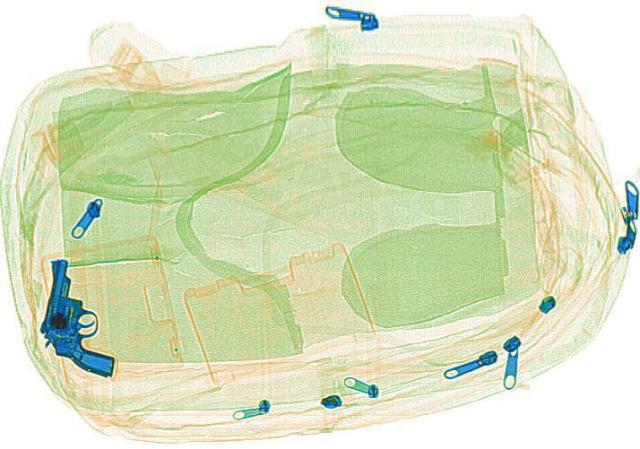Gun: (23, 252, 117, 381)
